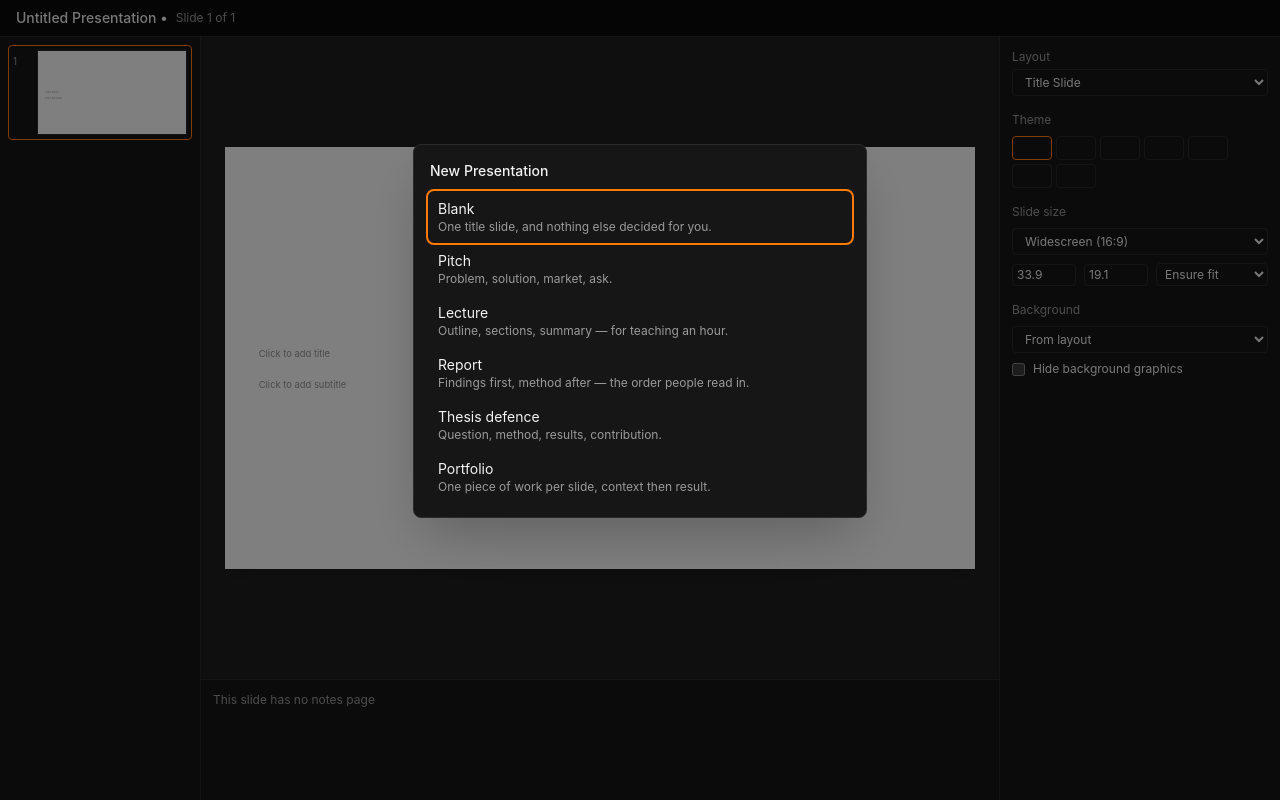
Test case: the template chooser › asks about unsaved work only once a template is chosen
Expected: the dialog "Unsaved changes" is not shown
What coordinates should you click on to do the following:
click the button "Lecture Outline, sections, summary — for teaching an hour."
I would click on:
 (640, 321)
Its box is top-left (430, 297), bottom-right (850, 345).
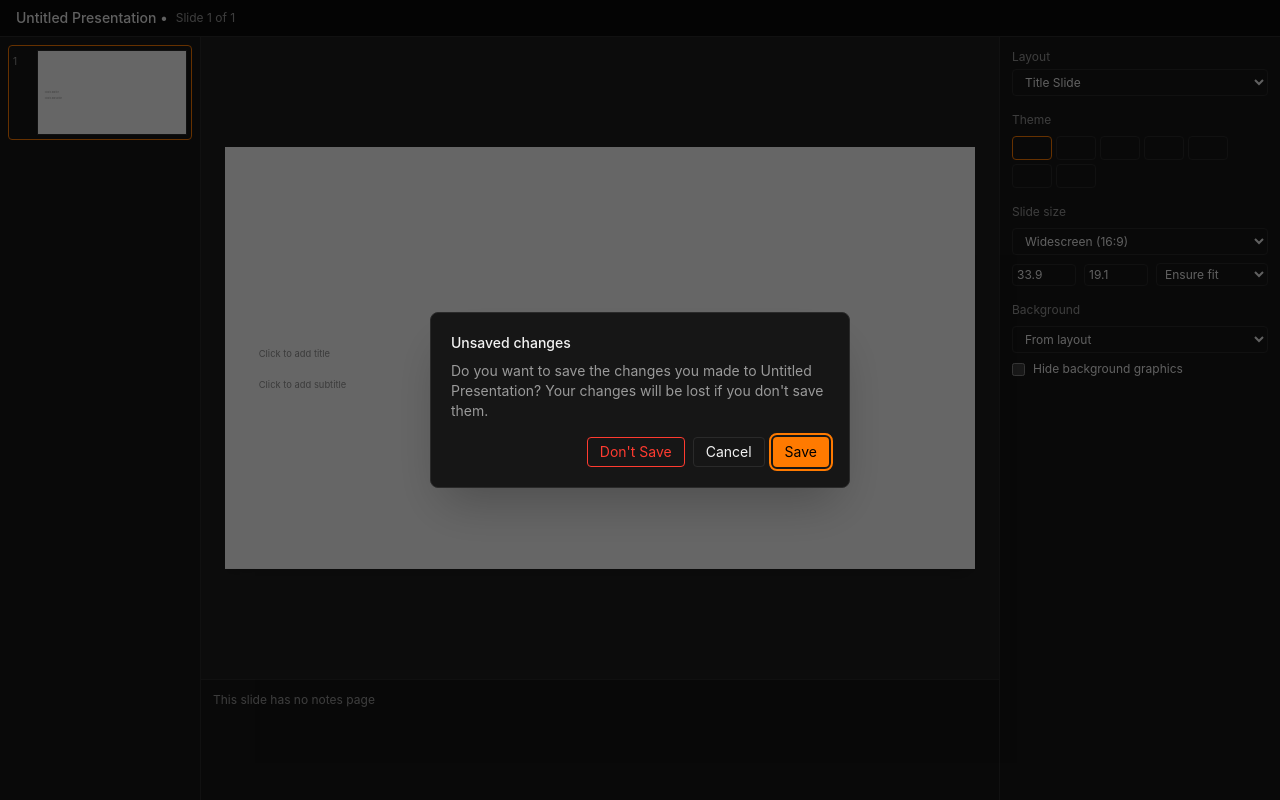
Expected: the dialog "Unsaved changes" is shown, top-left (430, 312), bottom-right (850, 488)
